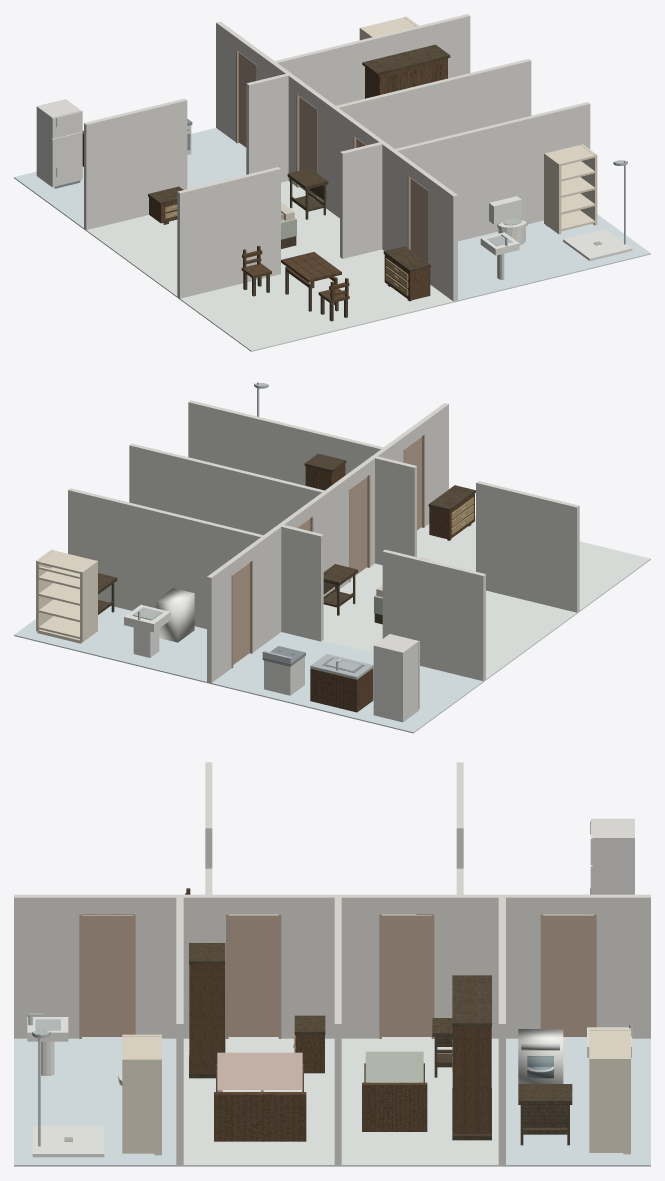
3 views of the same model, one above another, from view 1: azimuth 30°, elevation 25°; view 2: azimuth 150°, elevation 25°; view 3: azimuth 270°, elevation 25° (orthographic). The views are drawn at different scales.
Parts seen in each view (by area): view 1: H28_WALL_09, H28_FLOOR_00_COPA_/_REFEICOES, H28_WALL_00, H28_WALL_02, H28_WALL_10, H28_WALL_11, H28_FLOOR_03_BANHEIRO, H28_FLOOR_01_SALA_DE_ESTAR, H28_WALL_01, H28_FLOOR_02_COZINHA, H28_WALL_03, H28_WALL_04 (+26 smaller); view 2: H28_WALL_11, H28_WALL_00, H28_WALL_02, H28_WALL_10, H28_WALL_09, H28_FLOOR_01_SALA_DE_ESTAR, H28_FLOOR_02_COZINHA, H28_FLOOR_06_LAVANDERIA, H28_WALL_03, H28_FLOOR_00_COPA_/_REFEICOES, H28_WALL_01, H28_FURN_07_fridge__05__gabinete (+23 smaller); view 3: H28_FLOOR_03_BANHEIRO, H28_WALL_06, H28_WALL_07, H28_FLOOR_05_QUARTO_02, H28_FLOOR_04_QUARTO_CASAL, H28_FLOOR_06_LAVANDERIA, H28_WALL_05, H28_WALL_04, H28_WALL_08, H28_DOOR_00_LEAF, H28_DOOR_01_LEAF, H28_DOOR_02_LEAF (+30 smaller).
Part boxes in pixels (bbox=[...]): H28_WALL_09: bbox=[393, 102, 590, 241]; H28_FLOOR_00_COPA_/_REFEICOES: bbox=[178, 249, 455, 351]; H28_WALL_00: bbox=[177, 167, 280, 298]; H28_WALL_02: bbox=[84, 98, 187, 229]; H28_WALL_10: bbox=[334, 59, 531, 148]; H28_WALL_11: bbox=[275, 14, 470, 105]; H28_FLOOR_03_BANHEIRO: bbox=[455, 214, 650, 301]; H28_FLOOR_01_SALA_DE_ESTAR: bbox=[85, 181, 340, 298]; H28_WALL_01: bbox=[340, 142, 383, 258]; H28_FLOOR_02_COZINHA: bbox=[14, 128, 246, 229]; H28_WALL_03: bbox=[246, 73, 290, 182]; H28_WALL_04: bbox=[428, 177, 457, 301]; H28_WALL_11: bbox=[68, 488, 265, 628]; H28_WALL_00: bbox=[476, 481, 579, 612]; H28_WALL_02: bbox=[382, 549, 485, 681]; H28_WALL_10: bbox=[129, 443, 324, 535]; H28_WALL_09: bbox=[188, 400, 385, 485]; H28_FLOOR_01_SALA_DE_ESTAR: bbox=[322, 563, 578, 680]; H28_FLOOR_02_COZINHA: bbox=[209, 632, 484, 733]; H28_FLOOR_06_LAVANDERIA: bbox=[14, 606, 209, 683]; H28_WALL_03: bbox=[279, 524, 323, 641]; H28_FLOOR_00_COPA_/_REFEICOES: bbox=[417, 516, 650, 612]; H28_WALL_01: bbox=[373, 456, 416, 565]; H28_FURN_07_fridge__05__gabinete: bbox=[373, 634, 418, 722]; H28_FLOOR_03_BANHEIRO: bbox=[14, 1037, 179, 1166]; H28_WALL_06: bbox=[280, 894, 380, 1038]; H28_WALL_07: bbox=[433, 894, 541, 1038]; H28_FLOOR_05_QUARTO_02: bbox=[338, 1037, 502, 1166]; H28_FLOOR_04_QUARTO_CASAL: bbox=[180, 1037, 338, 1166]; H28_FLOOR_06_LAVANDERIA: bbox=[502, 1037, 650, 1166]; H28_WALL_05: bbox=[134, 894, 227, 1038]; H28_WALL_04: bbox=[14, 894, 80, 1038]; H28_WALL_08: bbox=[595, 894, 650, 1038]; H28_DOOR_00_LEAF: bbox=[82, 915, 133, 1036]; H28_DOOR_01_LEAF: bbox=[228, 915, 278, 1036]; H28_DOOR_02_LEAF: bbox=[382, 915, 431, 1036].
Bounding box in the file's own units: 9.66 × 2.46 × 9.94.
Materials: 22 (3 with a texture image).
